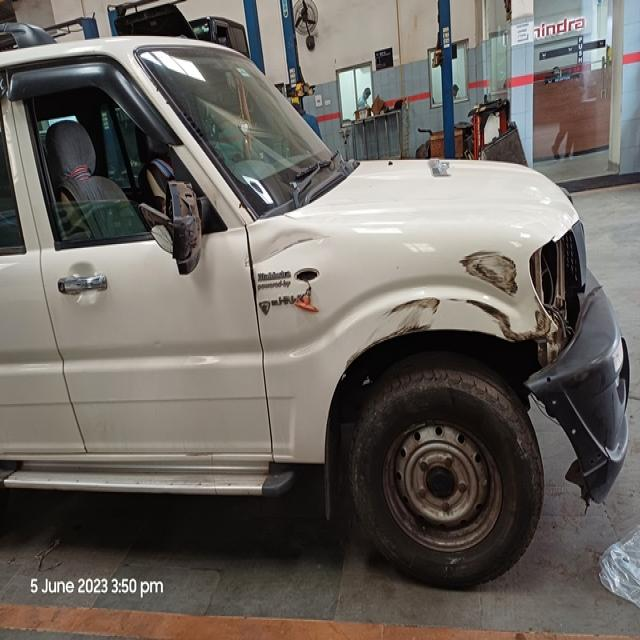damage: (529, 234, 592, 327), (161, 180, 203, 275), (524, 325, 576, 390), (447, 292, 522, 337), (459, 247, 522, 295), (381, 292, 442, 334), (250, 234, 327, 260), (295, 264, 320, 282)
